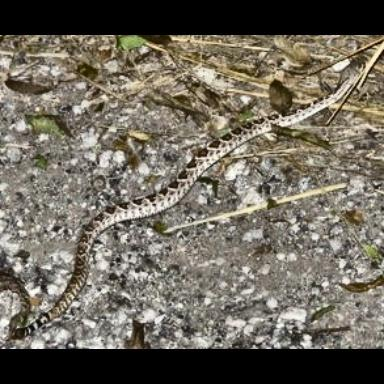snake: (24, 39, 384, 335)
